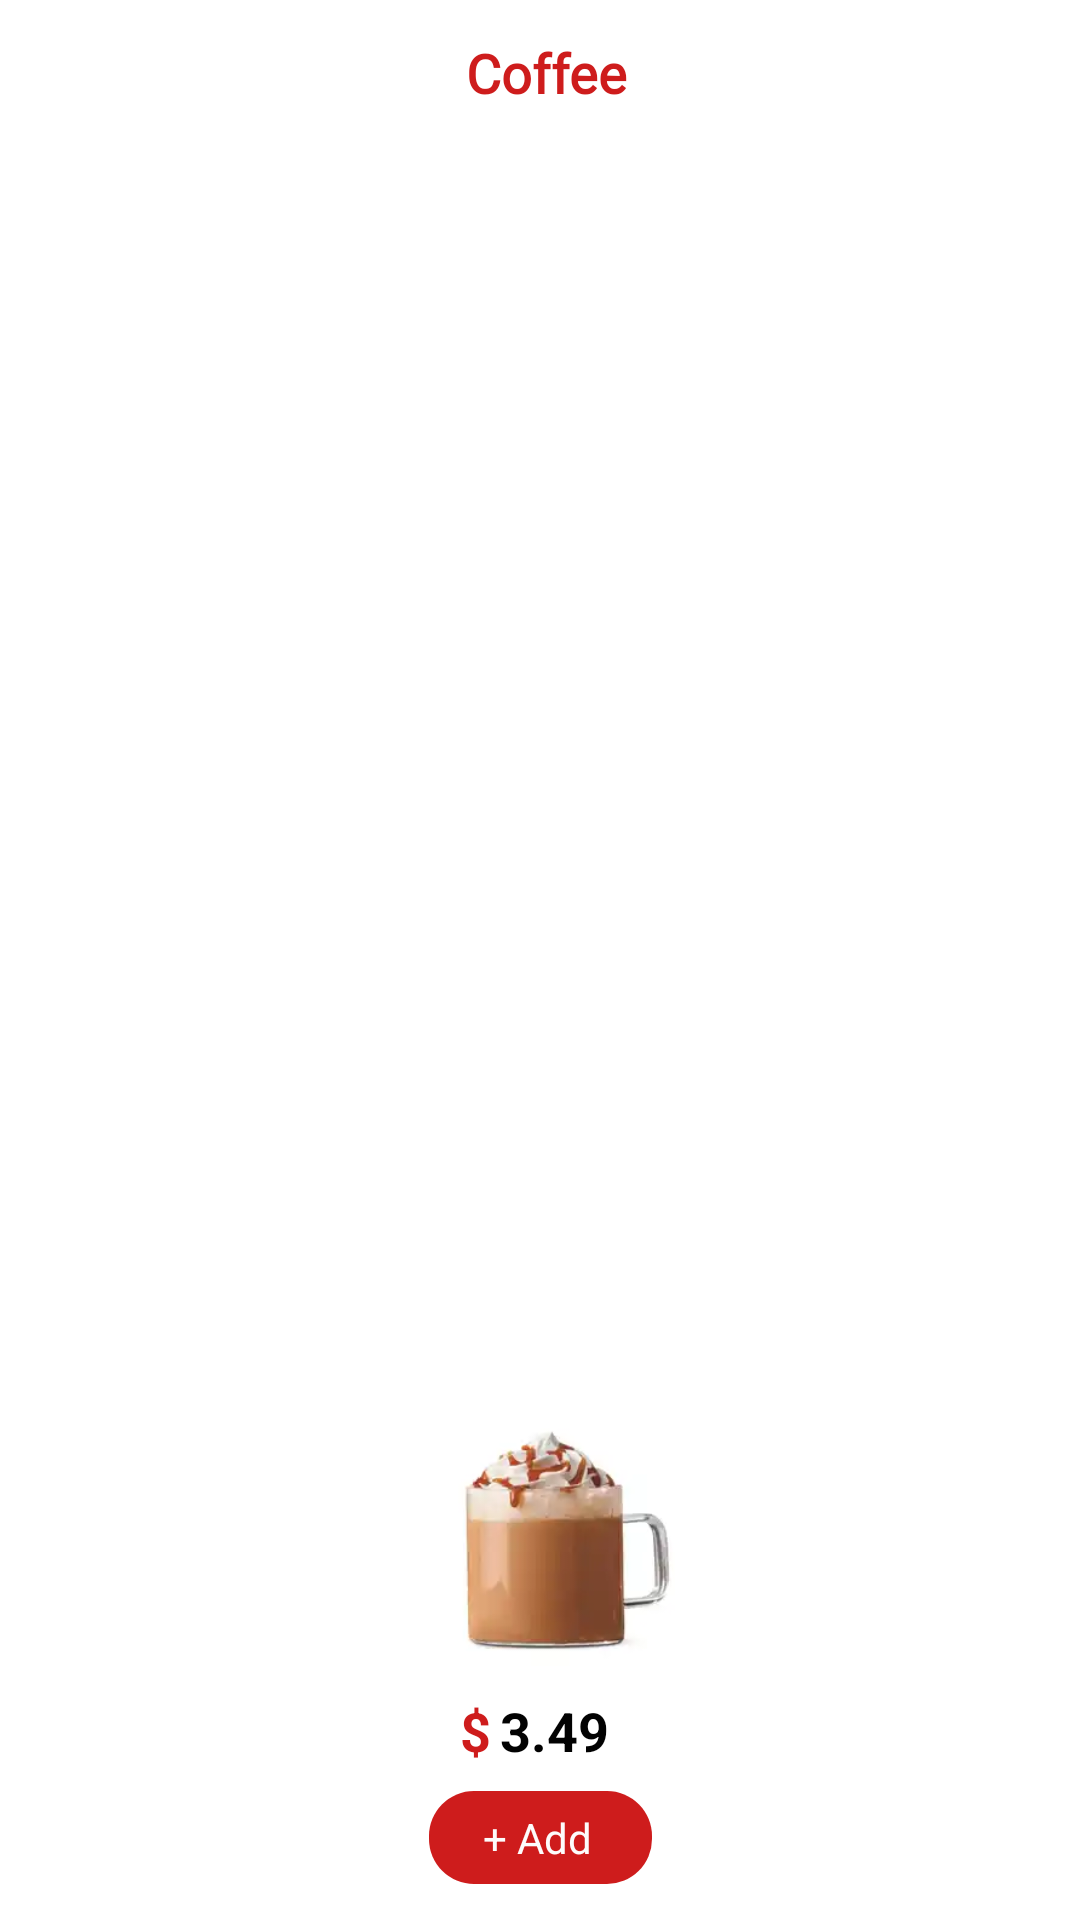

Named icons in this screenshot (1080 × 1920) and their centers, (x=x, y=y):
pumkin spice latte: (x=567, y=1540)
